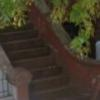stairs: (0, 23, 93, 100)
